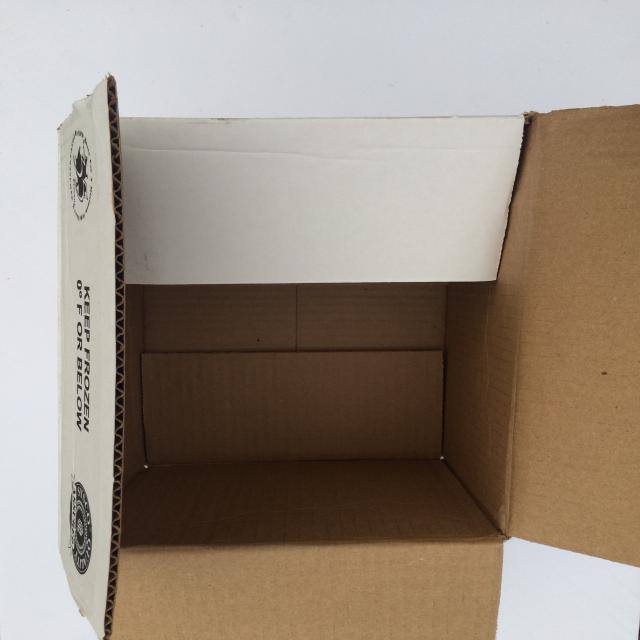cardboard: (57, 77, 638, 638)
